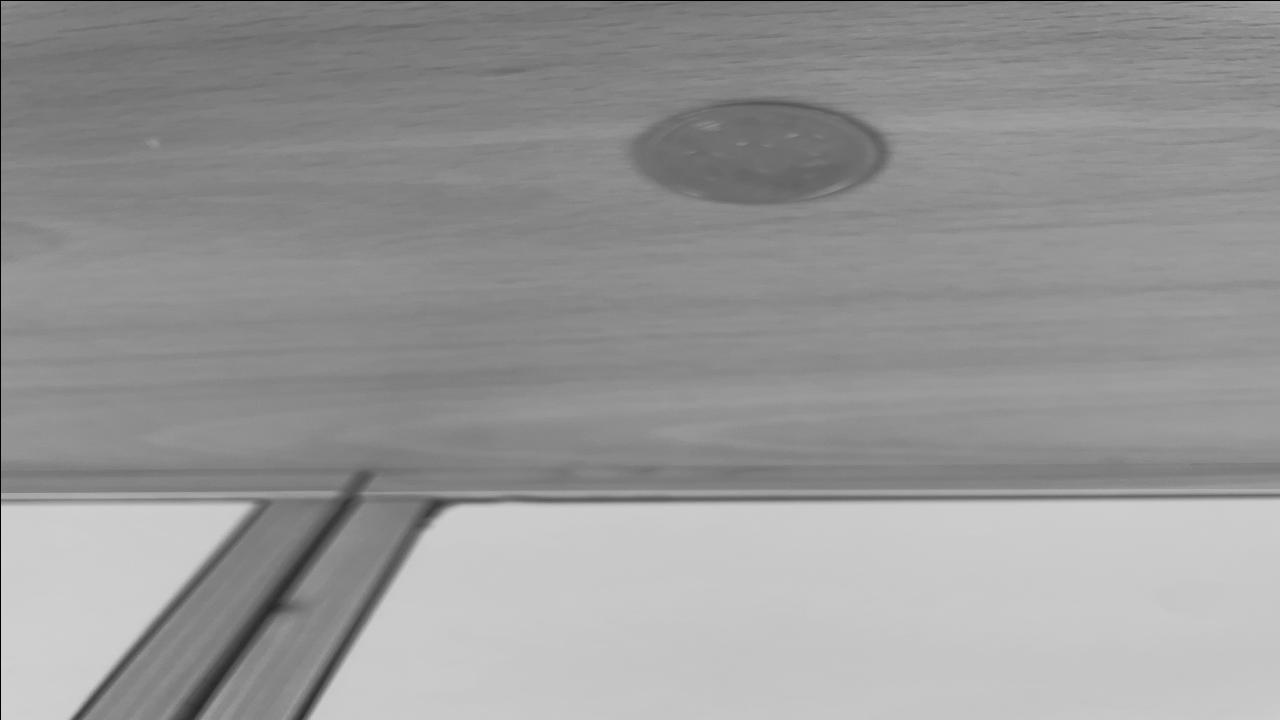coin: (628, 98, 896, 208)
